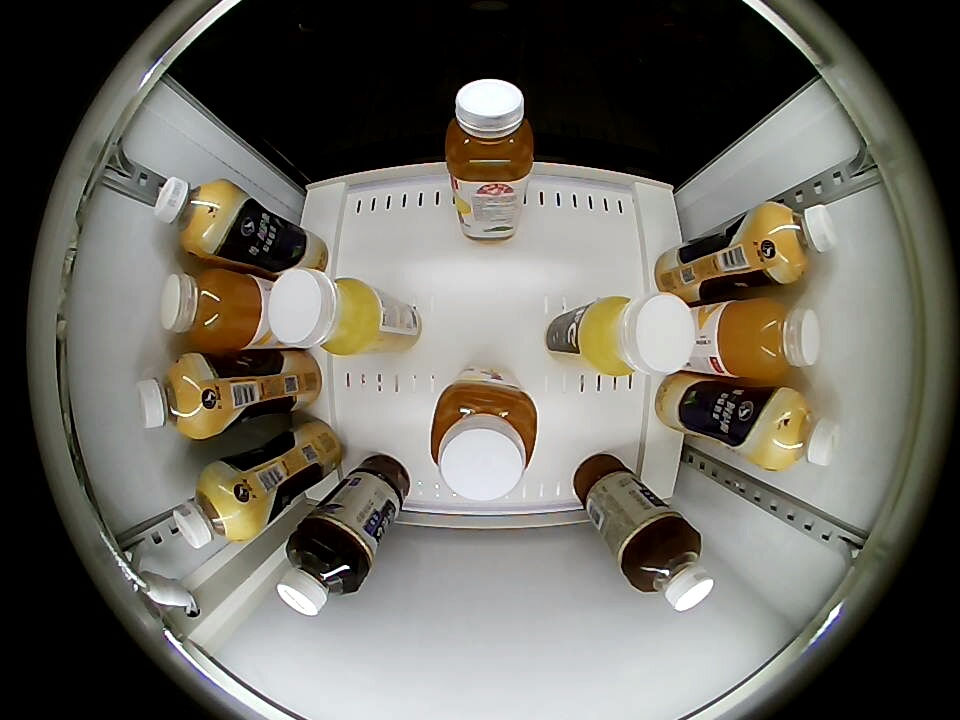asamu: (758, 390, 840, 472), (136, 355, 216, 439), (172, 468, 252, 549), (153, 177, 235, 254), (760, 201, 838, 281)
chapai: (429, 373, 539, 499), (445, 79, 535, 184)
nfc: (268, 269, 381, 356), (585, 293, 696, 377)
weic: (159, 270, 260, 351), (721, 299, 822, 380)
wulongcha: (623, 520, 714, 613), (276, 530, 364, 616)
